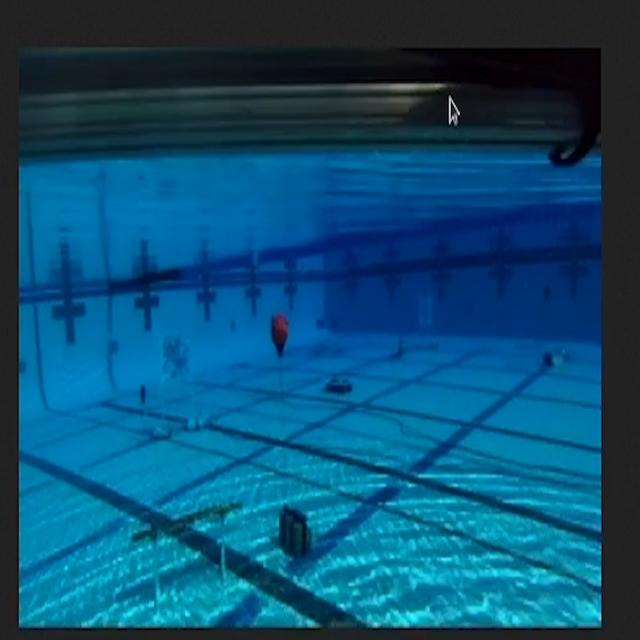Buoy: (261, 298, 298, 372)
Path: (120, 487, 254, 601)
